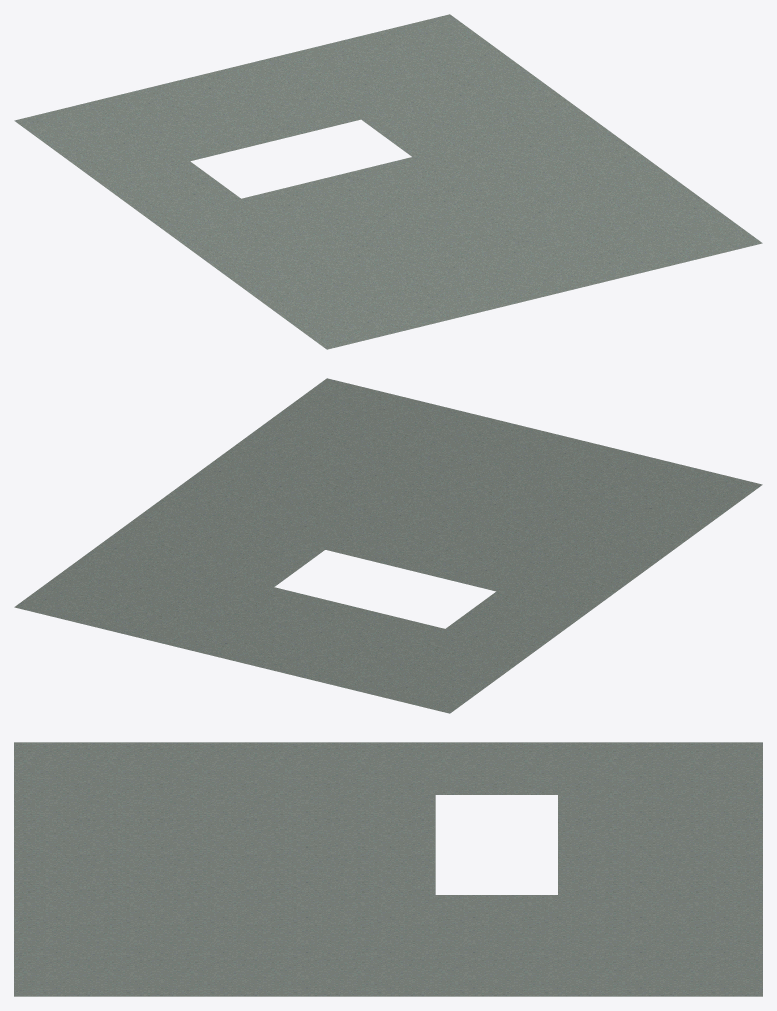
The model's file is FLOOR2011.glb.
3 renders of one model, top to bottom at view 1: azimuth 30°, elevation 25°; view 2: azimuth 150°, elevation 25°; view 3: azimuth 270°, elevation 25°, orthographic. The views are drawn at different scales.
Parts seen in each view (by area): view 1: FLOOR2011; view 2: FLOOR2011; view 3: FLOOR2011.
Part boxes in pixels (<box>): FLOOR2011: <box>14,14,762,349</box>; FLOOR2011: <box>14,378,762,713</box>; FLOOR2011: <box>14,742,762,996</box>.
Size of the model in its own units: 2399 by 0.0541 by 2983.
Materials: 1 (1 with a texture image).
